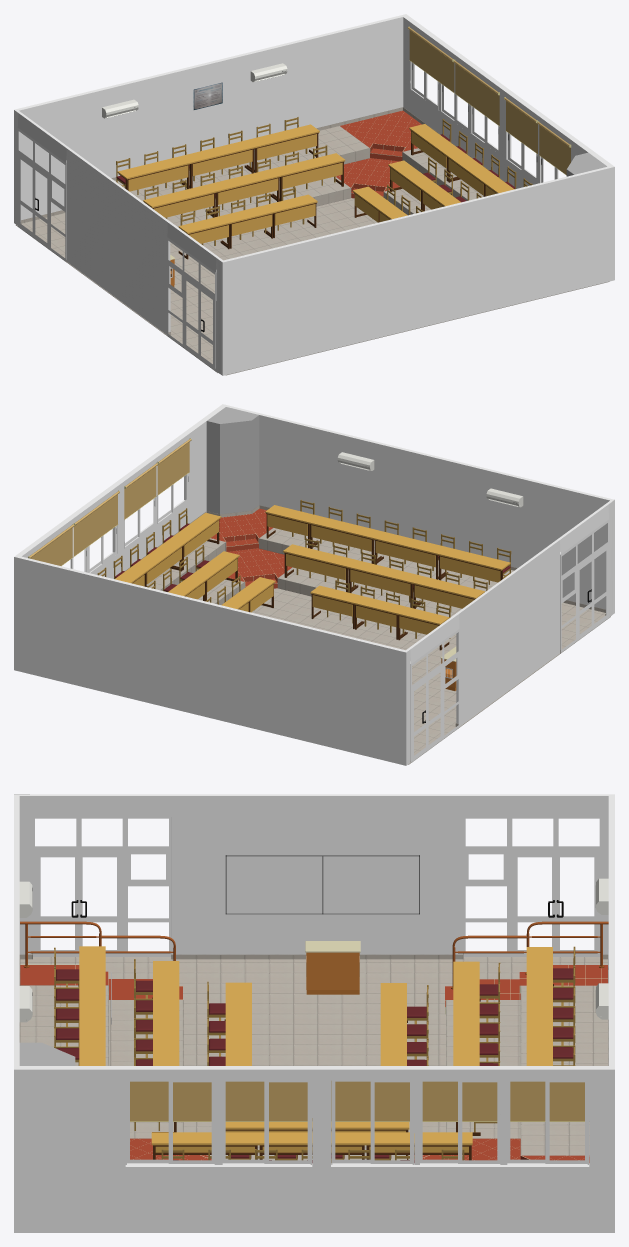
The model's file is ActualExplorer.glb.
The picture shows the model from 3 angles, top to bottom: view 1: azimuth 30°, elevation 25°; view 2: azimuth 150°, elevation 25°; view 3: azimuth 270°, elevation 25°; orthographic projection. The views are drawn at different scales.
Visible parts, largest first — view 1: Wall, Tiles01, classTable.006 (×2), classTable.005 (×2), windowCont (×2), GlassDoors (×2), classTable.004 (×2), Tiles01.017, windowCont.001 (×2), classTable.007, Tiles01.018, mahogTile.024 (+12 smaller); view 2: Wall, Tiles01, Cube.006, classTable (×2), classTable.001 (×2), GlassDoors (×2), classTable.002 (×2), windowCont (×2), windowCont.001 (×2), classTable.007, Tiles01.006, Tiles01.004 (+12 smaller); view 3: Wall, Tiles01, windowCont (×2), GlassDoors (×2), whiteBoard (×2), windowCont.001 (×2), classTable.007 (×2), Tiles01.017, classTable, classTable.006, Tiles01.018, classTable.001 (+26 smaller).
Boxes of the visible parts, <box> form: Wall: <box>14,14,614,375</box>; Tiles01: <box>24,198,377,360</box>; classTable.006 (×2): <box>117,124,319,191</box>; classTable.005 (×2): <box>143,153,345,217</box>; windowCont (×2): <box>408,27,499,154</box>; GlassDoors (×2): <box>17,128,215,370</box>; classTable.004 (×2): <box>178,194,317,259</box>; Tiles01.017: <box>115,126,369,201</box>; windowCont.001 (×2): <box>504,97,570,182</box>; classTable.007: <box>409,124,514,196</box>; Tiles01.018: <box>167,177,350,227</box>; mahogTile.024: <box>340,115,421,151</box>; Wall: <box>14,404,614,765</box>; Tiles01: <box>251,588,602,752</box>; Cube.006: <box>206,407,259,514</box>; classTable (×2): <box>308,515,510,582</box>; classTable.001 (×2): <box>283,544,485,608</box>; GlassDoors (×2): <box>411,519,608,762</box>; classTable.002 (×2): <box>310,585,449,650</box>; windowCont (×2): <box>29,491,119,573</box>; windowCont.001 (×2): <box>124,439,191,548</box>; classTable.007: <box>115,512,221,586</box>; Tiles01.006: <box>259,528,513,591</box>; Tiles01.004: <box>278,567,461,616</box>; Wall: <box>14,794,614,1232</box>; Tiles01: <box>28,962,607,1155</box>; windowCont (×2): <box>331,1080,589,1164</box>; GlassDoors (×2): <box>32,817,602,956</box>; whiteBoard (×2): <box>225,855,419,914</box>; windowCont.001 (×2): <box>125,1080,312,1164</box>; classTable.007 (×2): <box>151,1132,472,1160</box>; Tiles01.017: <box>521,985,607,1155</box>; classTable: <box>79,946,105,1065</box>; classTable.006: <box>526,947,552,1065</box>; Tiles01.018: <box>446,1000,520,1138</box>; classTable.001: <box>153,961,179,1065</box>.
Size of what is drawn, in the model's own units: 12.15 by 3.36 by 11.18.
28 materials, 2 textured.
